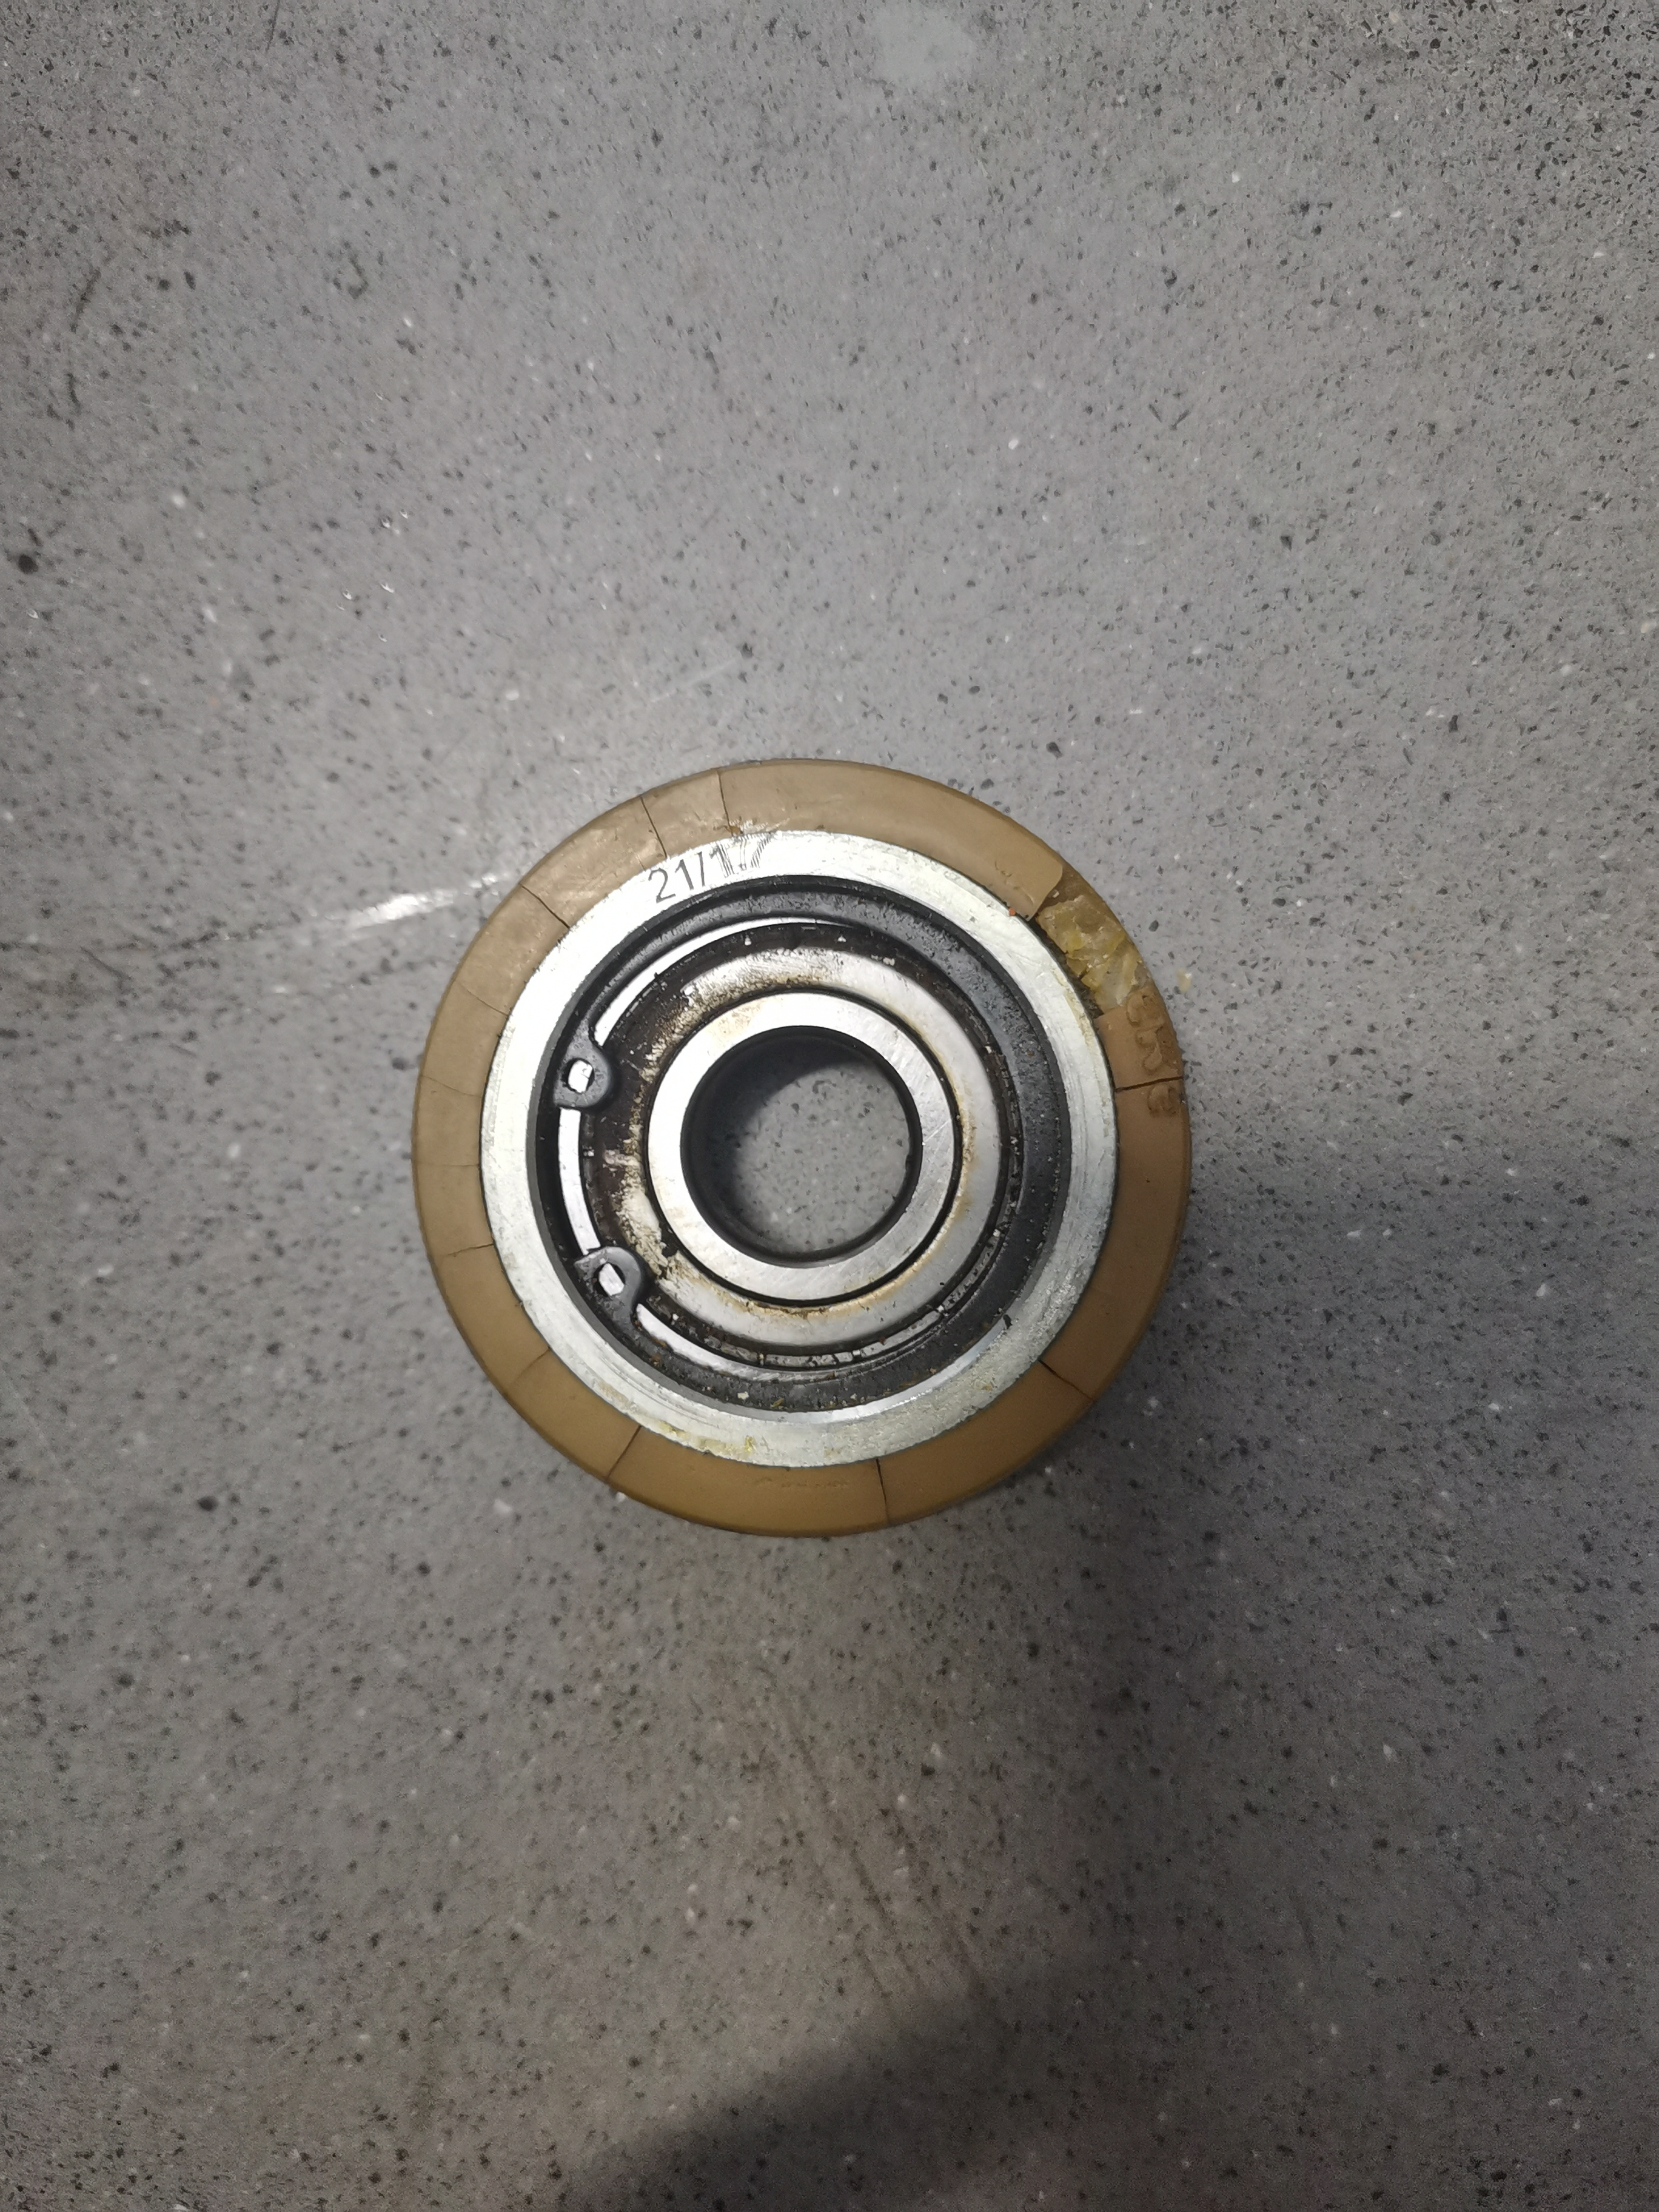bad_wheel: (999, 815, 1211, 1118), (458, 801, 640, 1012), (978, 1315, 1195, 1467), (594, 1371, 695, 1548), (826, 1421, 938, 1578), (669, 740, 775, 887), (403, 1195, 538, 1301)
